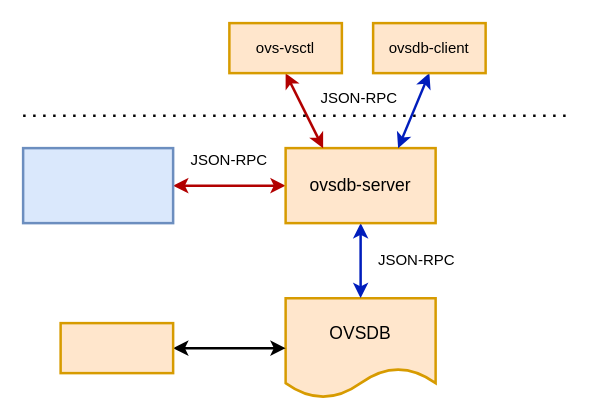
Some shapes in this 596 by 420 pixel diagram are drawn without their labels. Each missing label, with the centre of its shape:
ovs-vswitchd: [97,185]
ovsdb-tool: [116,347]
